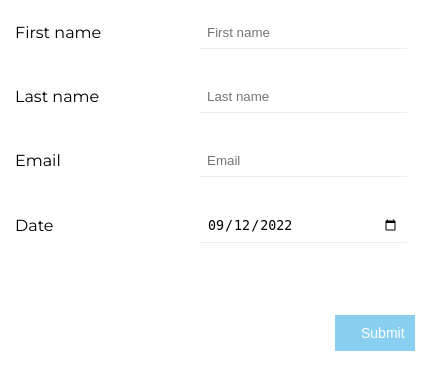
it: The Home Page › validates inputs
The width and height of the screenshot is (432, 368).
Click the button "Submit": (375,333) 335,315 -> 415,351
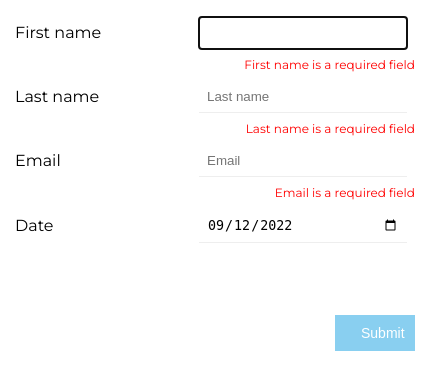
Result: the text "First name is a required field" is shown at 244,57 -> 415,72
Result: the text "Last name is a required field" is shown at 246,121 -> 415,136
Result: the text "Email is a required field" is shown at 275,185 -> 415,200
